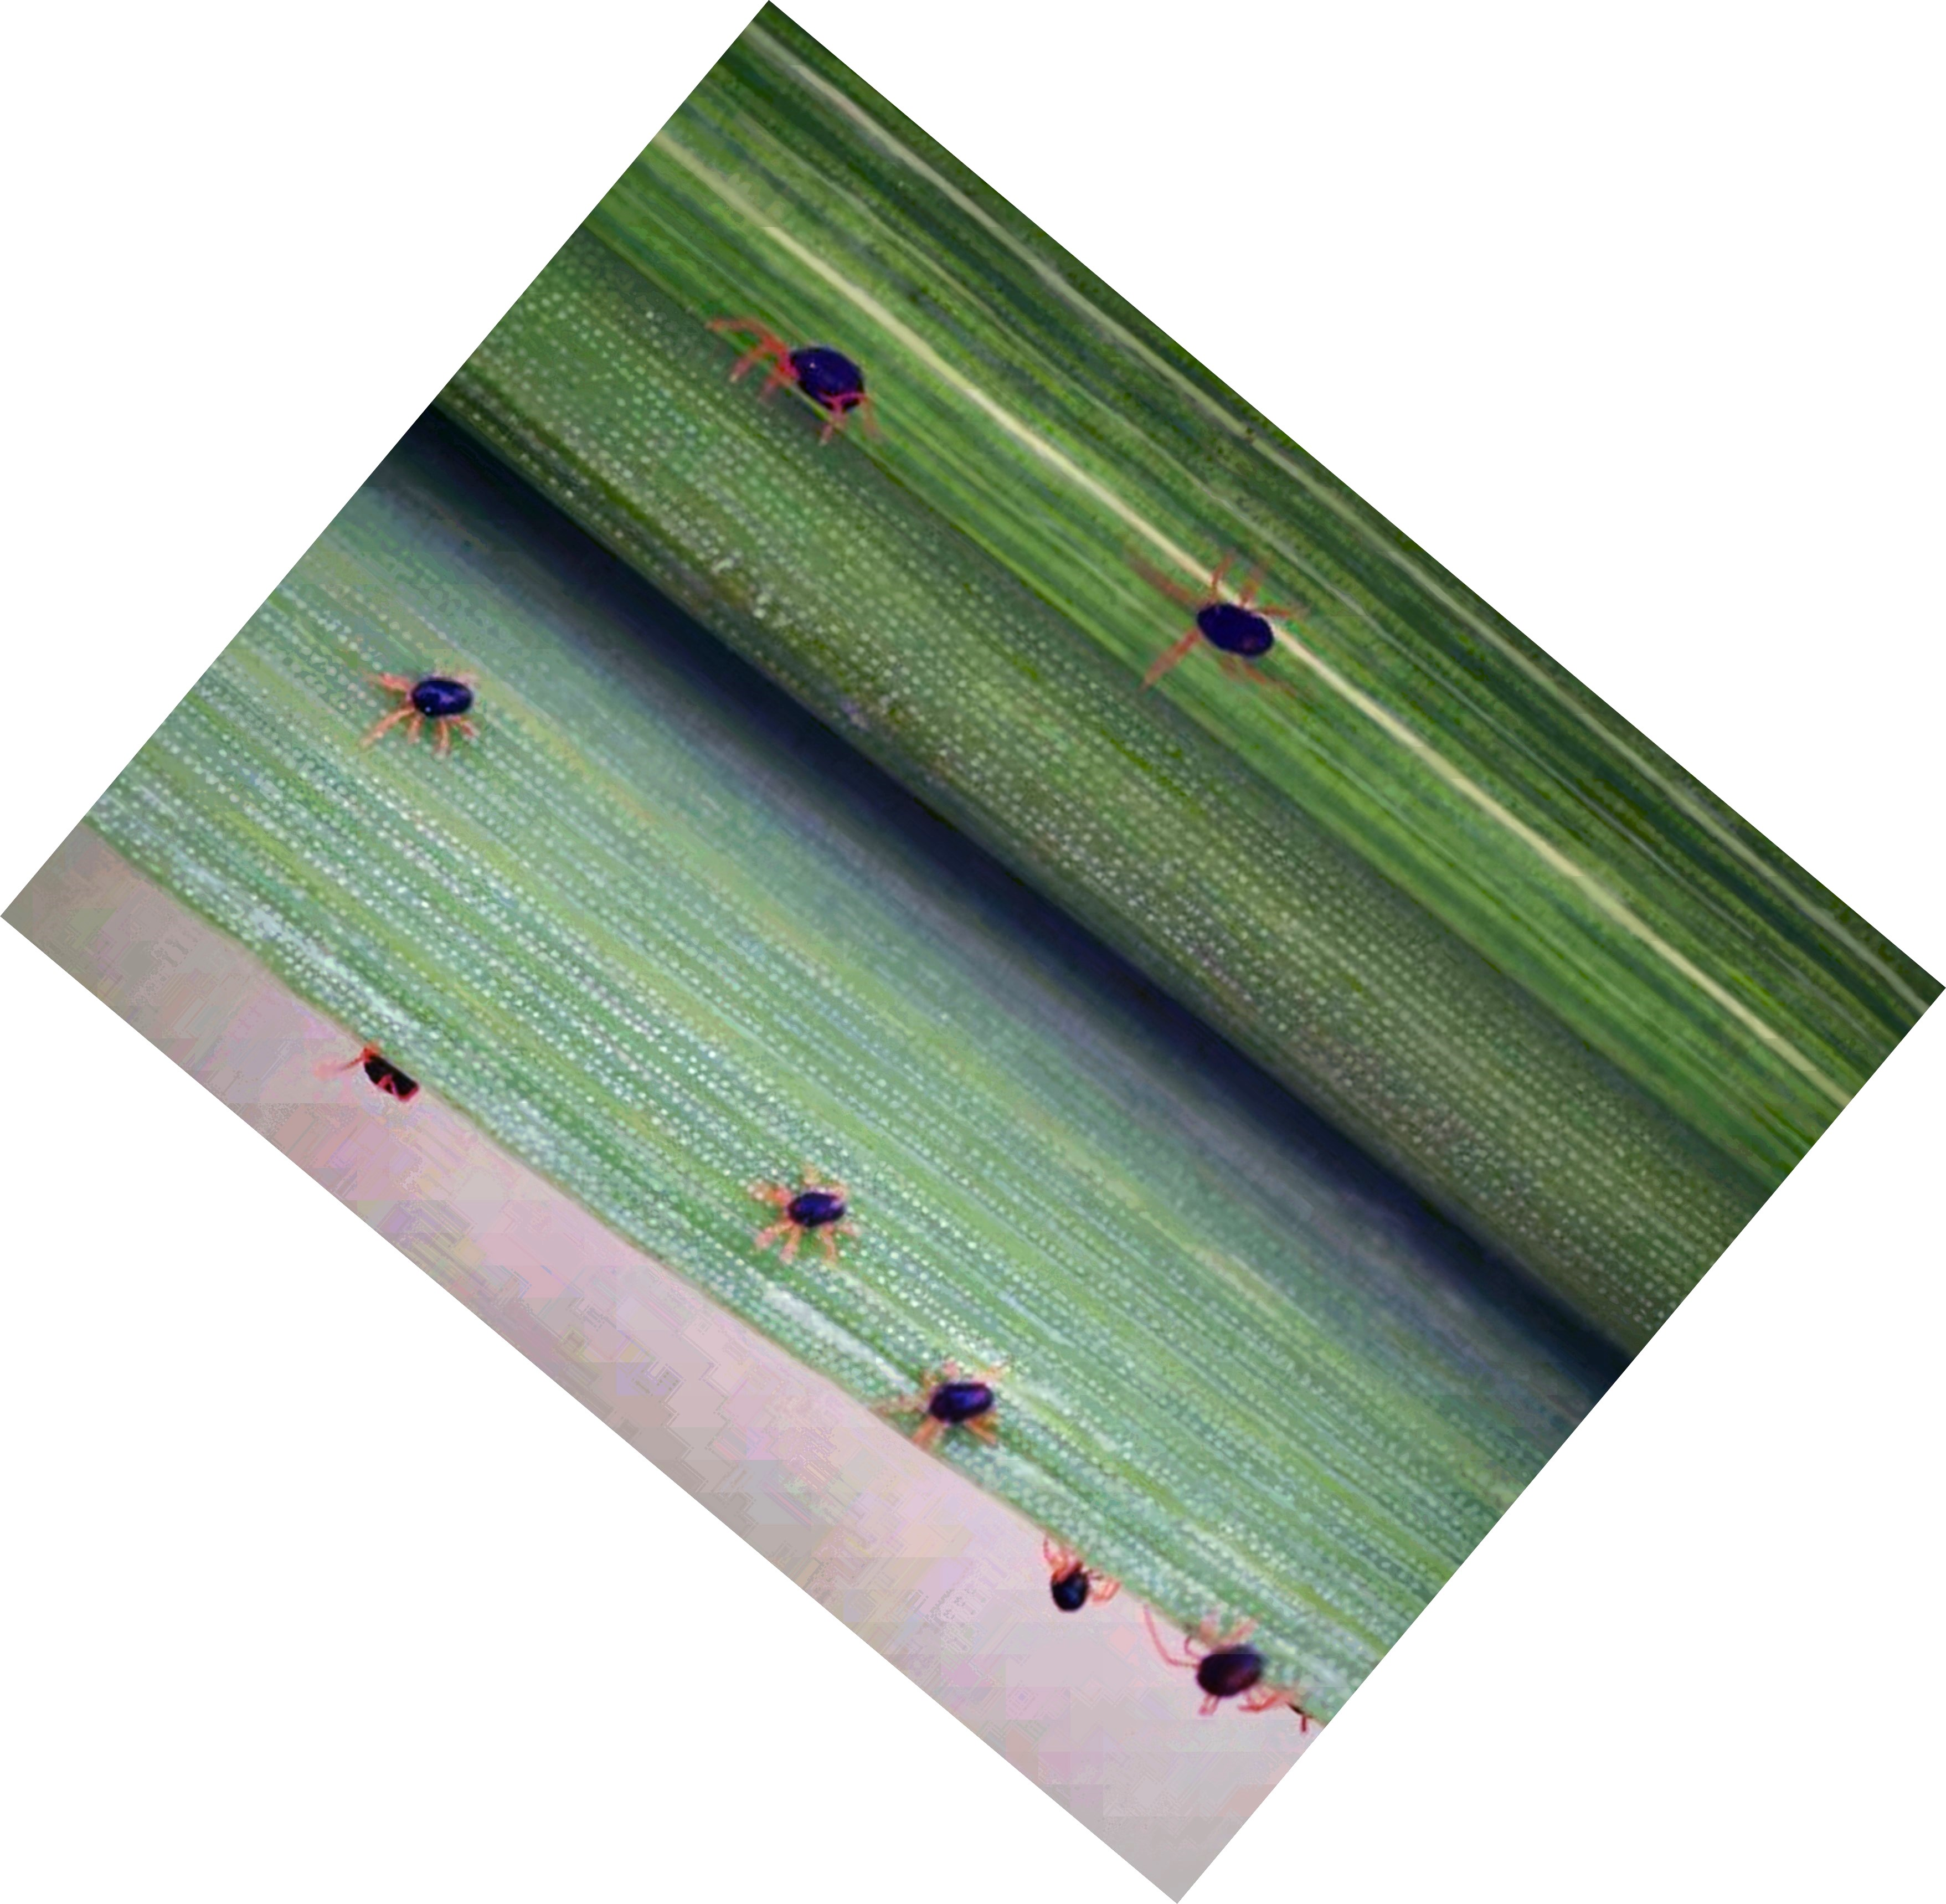Wheat Red Spider: (694, 310, 902, 459)
